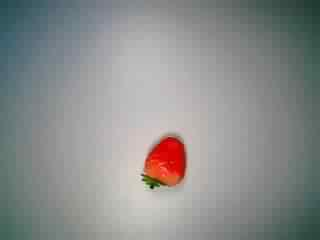strawberry: (132, 130, 194, 194)
